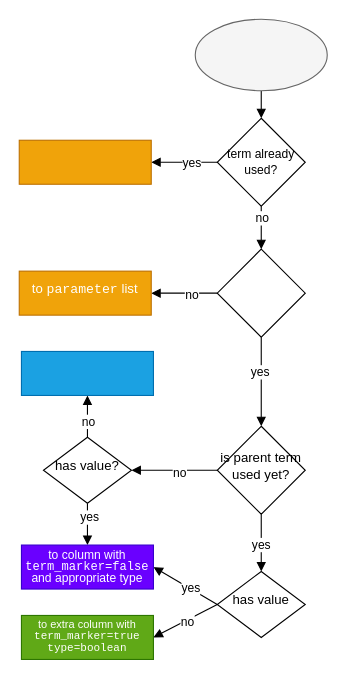
Image size: 347x679. Some labels were removed from this diagram. The box of each missing label's shape, as (x1, y1, x2, y2) in pixels:
Parameter name: "foo" value: "bar" accession: ...: (194, 18, 327, 91)
to column with term_marker=true type=string: (20, 350, 153, 395)
to parameter list and demote other use: (18, 139, 151, 184)
value type & unit consistent?: (216, 248, 305, 337)
